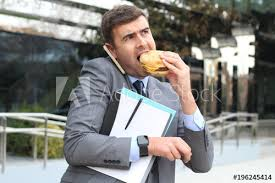eating: (82, 12, 207, 128)
